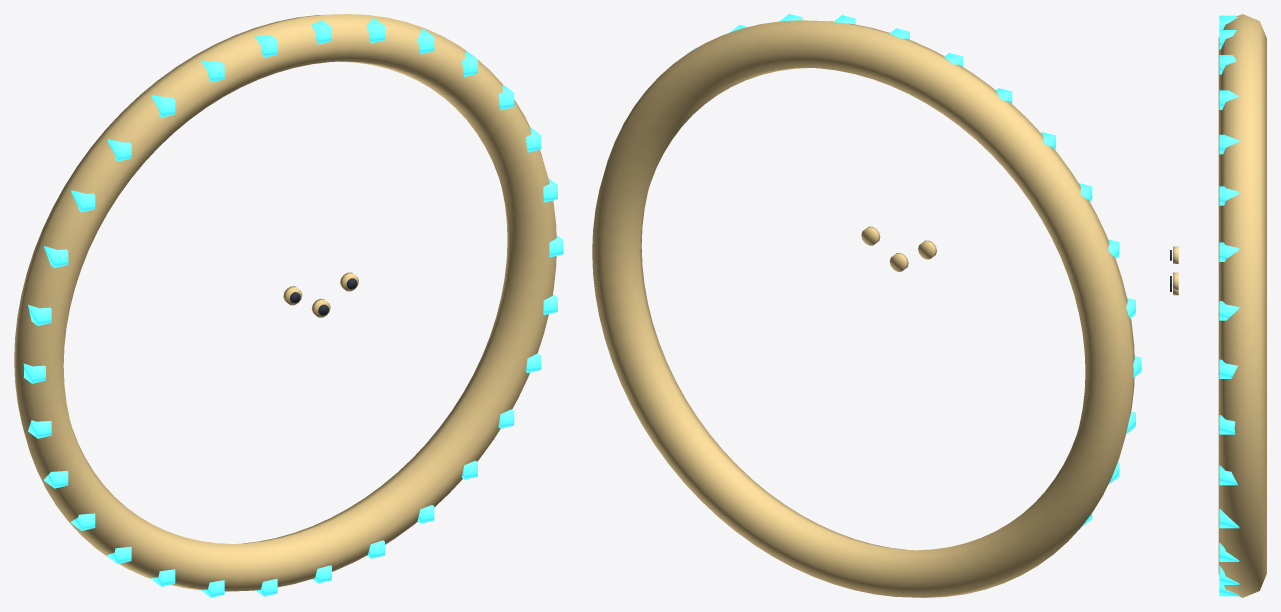
The model's file is 14_L91_DeepSpaceMissionCertificationArch.glb.
3 views of the same model, side by side, from view 1: azimuth 30°, elevation 25°; view 2: azimuth 150°, elevation 25°; view 3: azimuth 270°, elevation 25° (orthographic). The views are drawn at different scales.
Visible parts, largest first — view 1: L91_DeepSpaceMissionCertifica_Part_0000, L91_DeepSpaceMissionCertifica_Part_0001, L91_DeepSpaceMissionCertifica_Part_0002; view 2: L91_DeepSpaceMissionCertifica_Part_0000, L91_DeepSpaceMissionCertifica_Part_0001; view 3: L91_DeepSpaceMissionCertifica_Part_0000, L91_DeepSpaceMissionCertifica_Part_0001, L91_DeepSpaceMissionCertifica_Part_0002.
Part boxes in pixels (x1=…): L91_DeepSpaceMissionCertifica_Part_0000: x1=14, y1=14, x2=556, y2=591; L91_DeepSpaceMissionCertifica_Part_0001: x1=23, y1=18, x2=563, y2=438; L91_DeepSpaceMissionCertifica_Part_0002: x1=44, y1=294, x2=557, y2=597; L91_DeepSpaceMissionCertifica_Part_0000: x1=592, y1=20, x2=1134, y2=597; L91_DeepSpaceMissionCertifica_Part_0001: x1=692, y1=14, x2=1141, y2=433; L91_DeepSpaceMissionCertifica_Part_0000: x1=1218, y1=14, x2=1266, y2=597; L91_DeepSpaceMissionCertifica_Part_0001: x1=1219, y1=15, x2=1239, y2=434; L91_DeepSpaceMissionCertifica_Part_0002: x1=1219, y1=465, x2=1239, y2=596.
Bounding box in the file's own units: 4.36 × 4.36 × 0.722.
